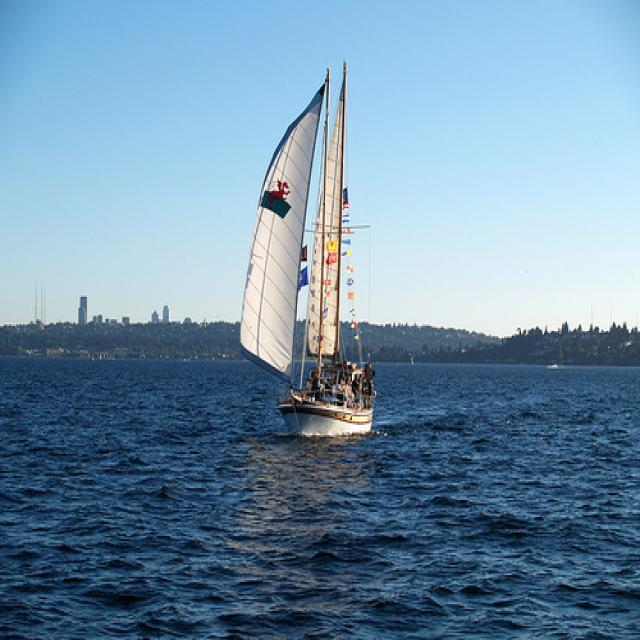Ship: (238, 58, 381, 444)
